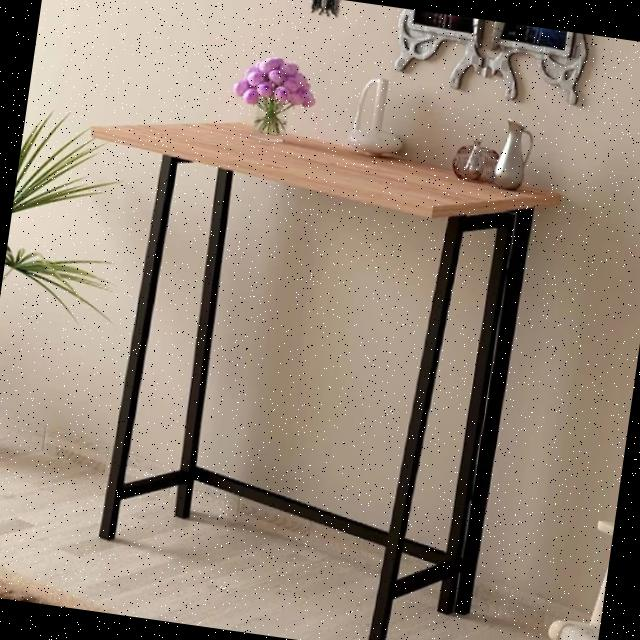Table: (0, 22, 604, 640)
